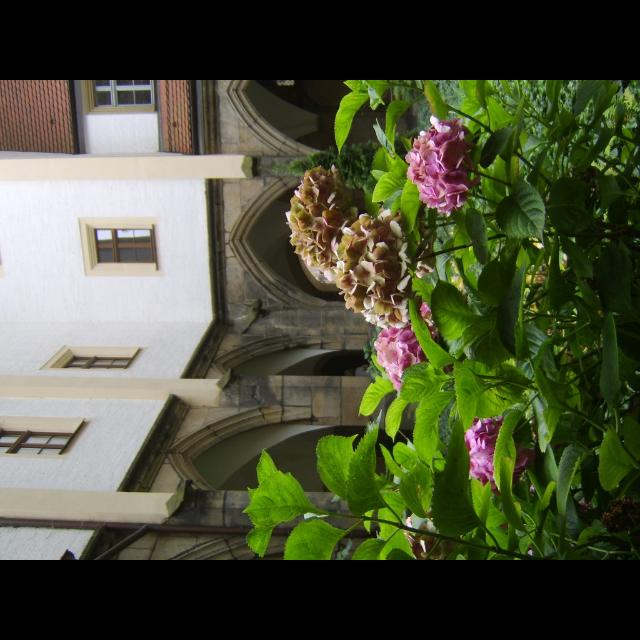Flower: (331, 206, 421, 330), (276, 160, 360, 282), (404, 112, 496, 214), (462, 416, 556, 498), (342, 226, 414, 332), (372, 310, 422, 400)
